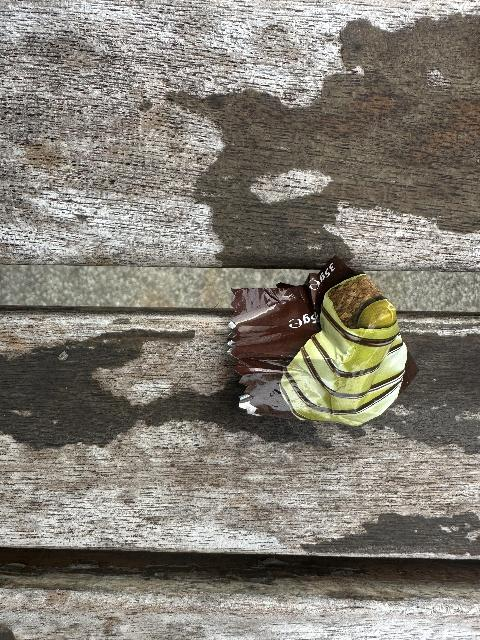Plastik: (219, 271, 408, 435)
